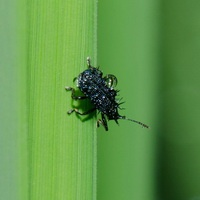insect: (65, 57, 148, 130)
